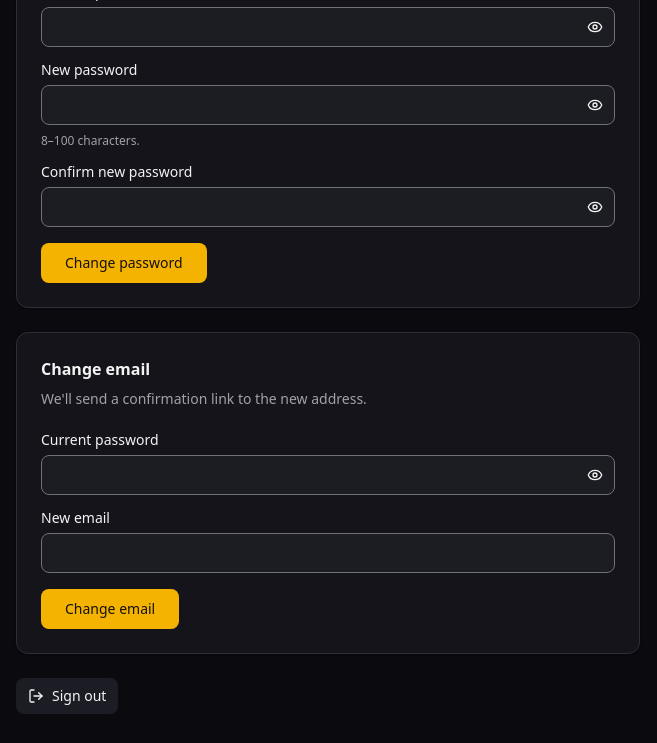
forms: limited › profile › change email shows the form alert
(page scrolled)
Type "old-password" into the 2nd password field labelled "Current password" at (328, 475), box 41,455 -> 615,495
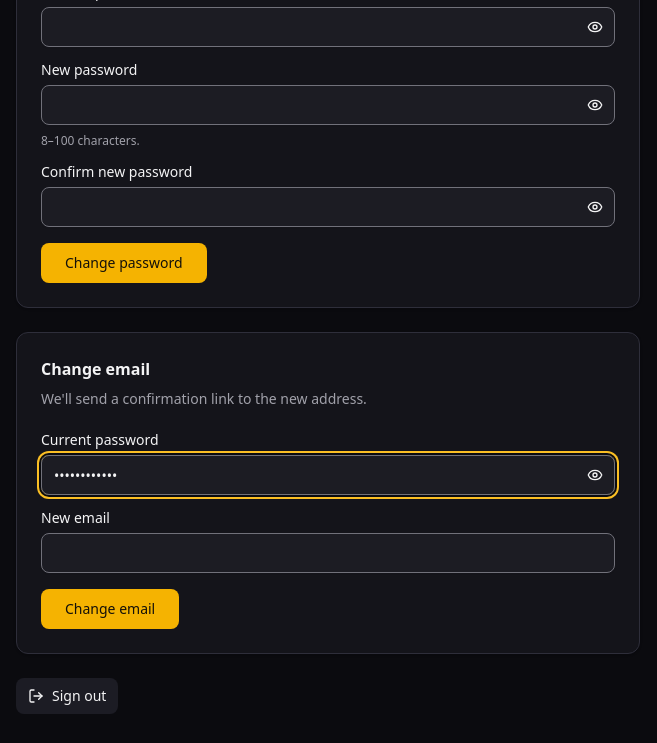
Type "new@example.com" into the field labelled "New email" at (328, 553), box 41,533 -> 615,573
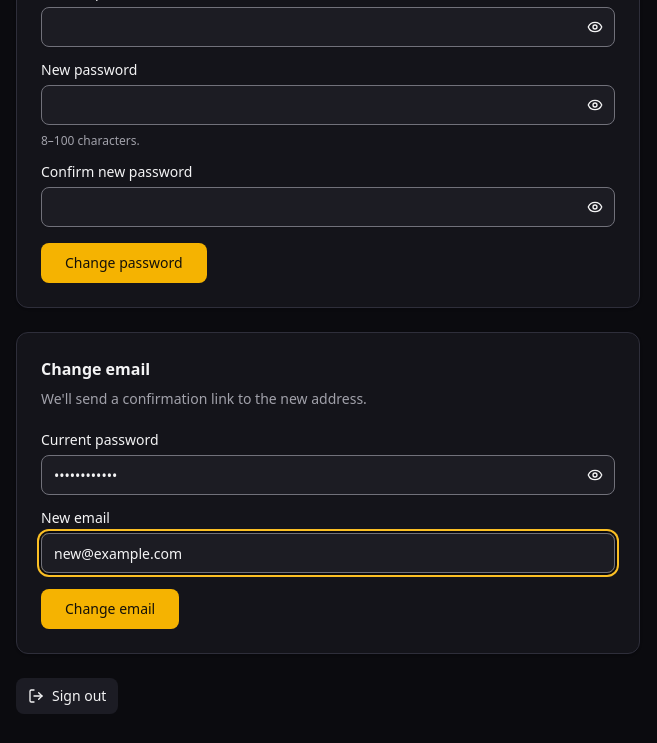
Click the button "Change email" at (110, 609), box 41,589 -> 179,629
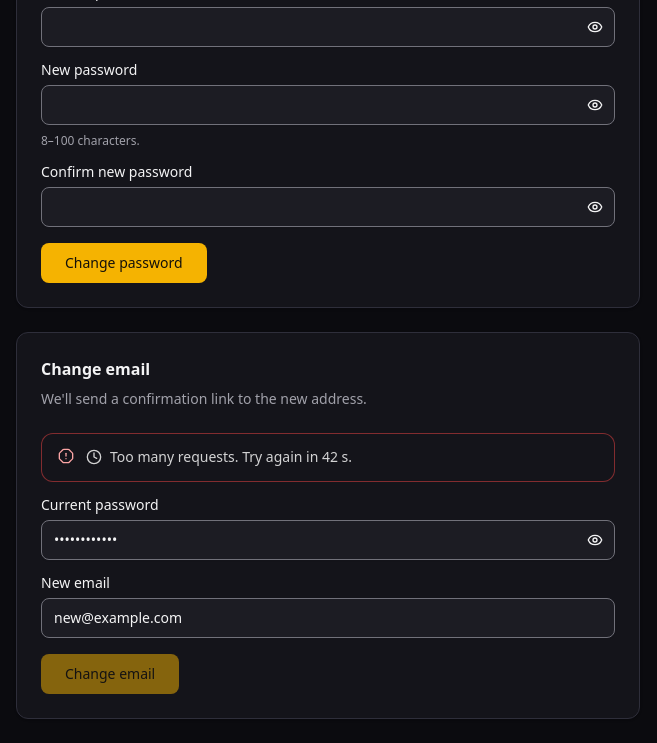
Expected: the text "Too many requests. Try again in 42 s." is shown, 110,446 -> 352,469
Expected: the button "Change email" is disabled, 41,654 -> 179,694
